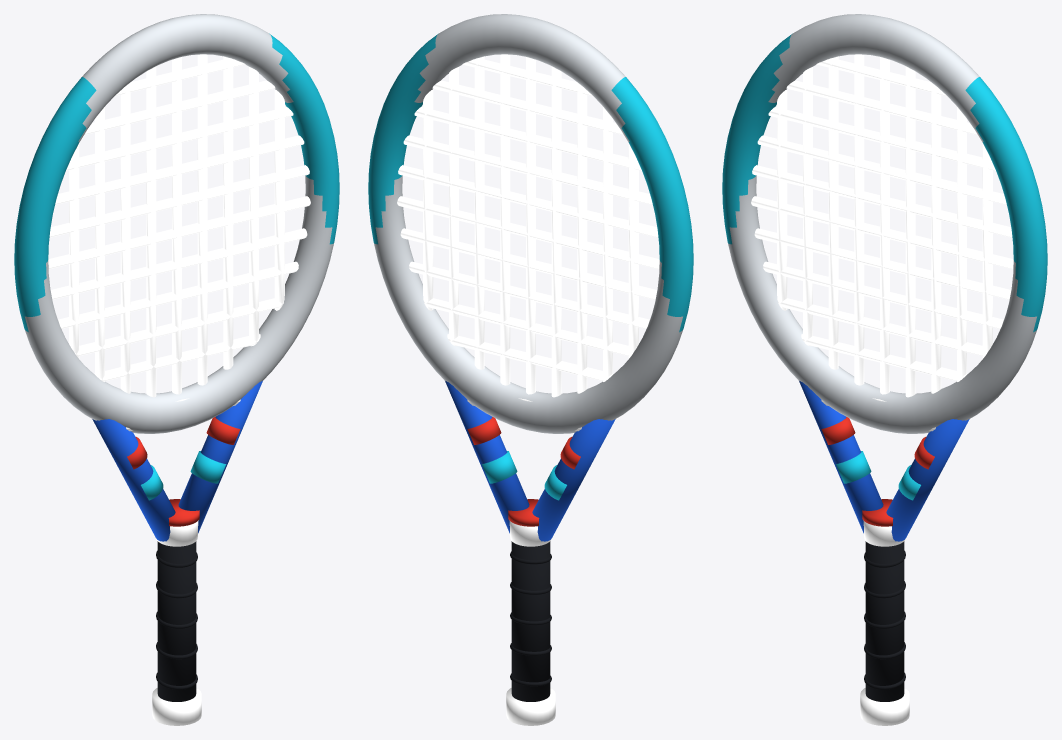
File: tennis_racket.glb
3 views of the same model, side by side, from view 1: azimuth 30°, elevation 25°; view 2: azimuth 150°, elevation 25°; view 3: azimuth 330°, elevation 25° (orthographic).
Visible parts, largest first — view 1: TennisRacket; view 2: TennisRacket; view 3: TennisRacket.
Part boxes in pixels (<box>): TennisRacket: <box>14,14,339,725</box>; TennisRacket: <box>368,14,693,725</box>; TennisRacket: <box>722,14,1047,725</box>.
Bounding box in the file's own units: 0.3744 × 0.777 × 0.05.
